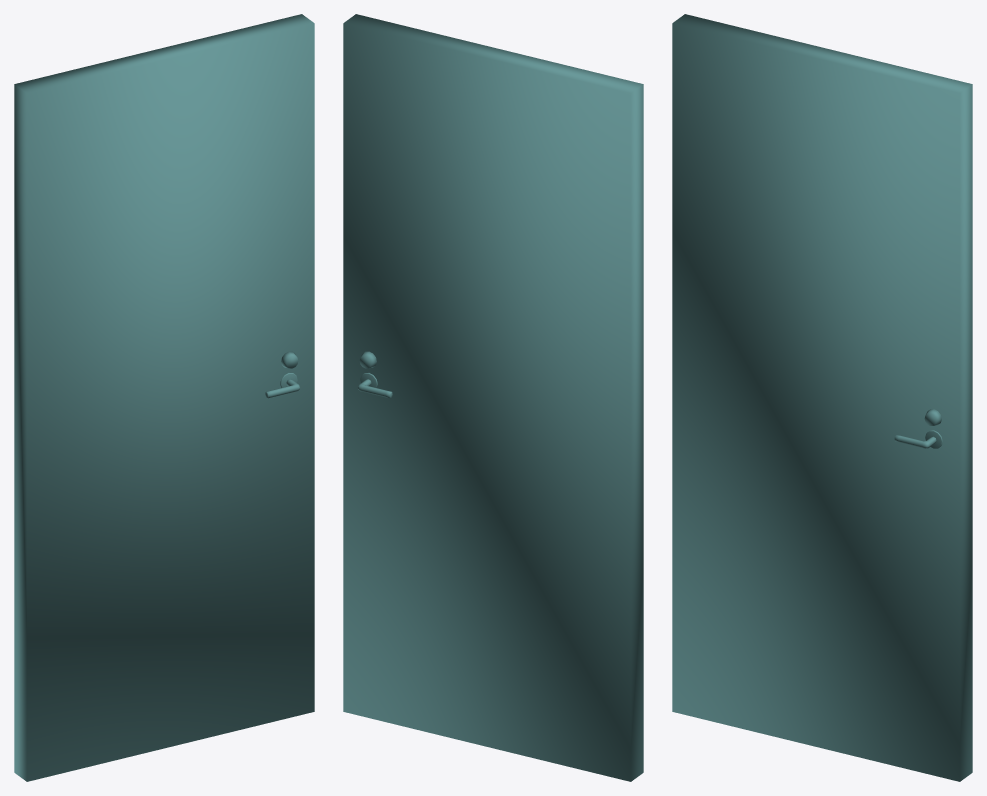
File: SW_corridor__R_lobby_Ovi_075.FBX
3 renders of one model, left to right at view 1: azimuth 30°, elevation 25°; view 2: azimuth 150°, elevation 25°; view 3: azimuth 330°, elevation 25°, orthographic.
Parts seen in each view (by area): view 1: SW_corridor__R_lobby_Ovi_075; view 2: SW_corridor__R_lobby_Ovi_075; view 3: SW_corridor__R_lobby_Ovi_075.
Part boxes in pixels (x1=…): SW_corridor__R_lobby_Ovi_075: x1=14, y1=14, x2=314, y2=781; SW_corridor__R_lobby_Ovi_075: x1=343, y1=14, x2=643, y2=781; SW_corridor__R_lobby_Ovi_075: x1=672, y1=14, x2=972, y2=781.
Bounding box in the file's own units: 91 × 17.53 × 208.
